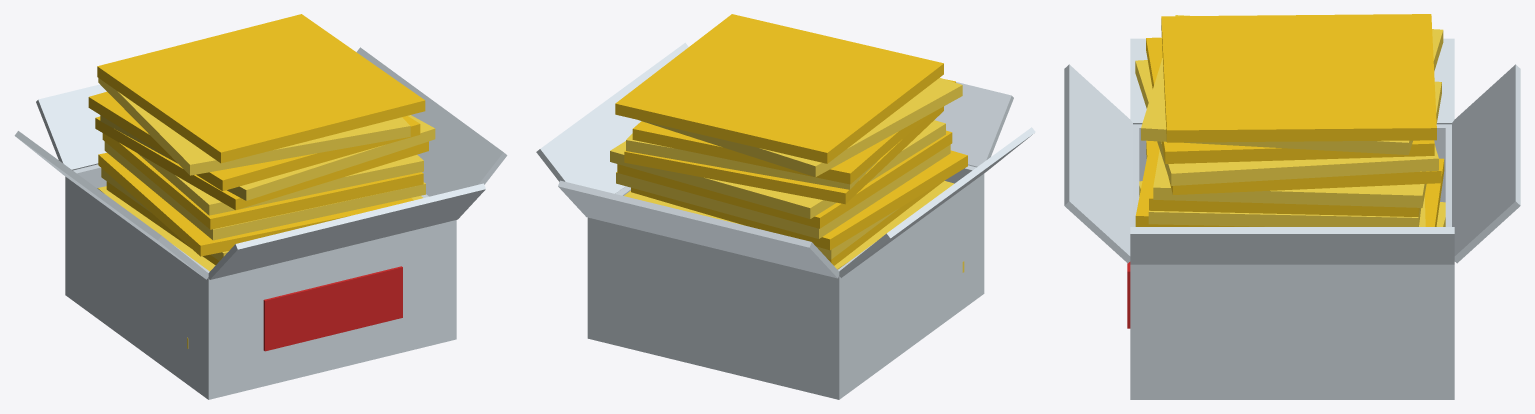
Rendered from dispenser_cheese.glb.
The picture shows the model from 3 angles, left to right: view 1: azimuth 30°, elevation 25°; view 2: azimuth 150°, elevation 25°; view 3: azimuth 270°, elevation 25°; orthographic projection. The views are drawn at different scales.
Visible parts, largest first — view 1: DispenserCheese; view 2: DispenserCheese; view 3: DispenserCheese.
Part boxes in pixels (x1=…): DispenserCheese: x1=14, y1=14, x2=507, y2=399; DispenserCheese: x1=536, y1=14, x2=1035, y2=399; DispenserCheese: x1=1064, y1=14, x2=1520, y2=399.
Bounding box in the file's own units: 5.07 × 3.2 × 5.07.
